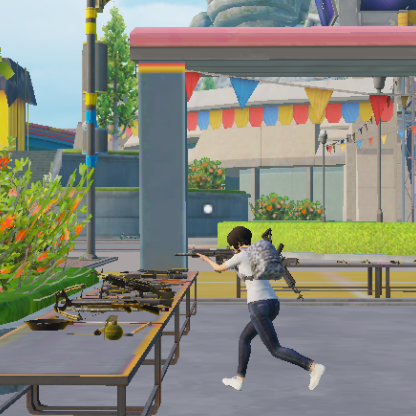ren: (213, 222, 305, 391)
tou: (226, 226, 252, 251)
